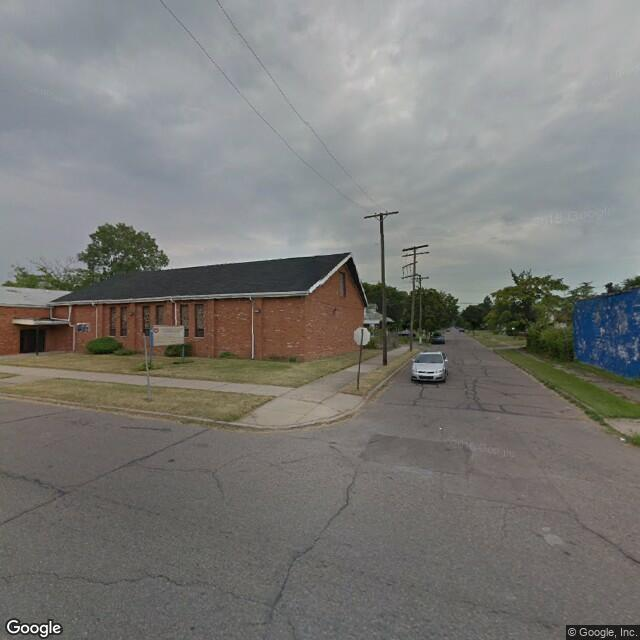litter: (619, 435, 626, 444), (438, 426, 444, 430)
